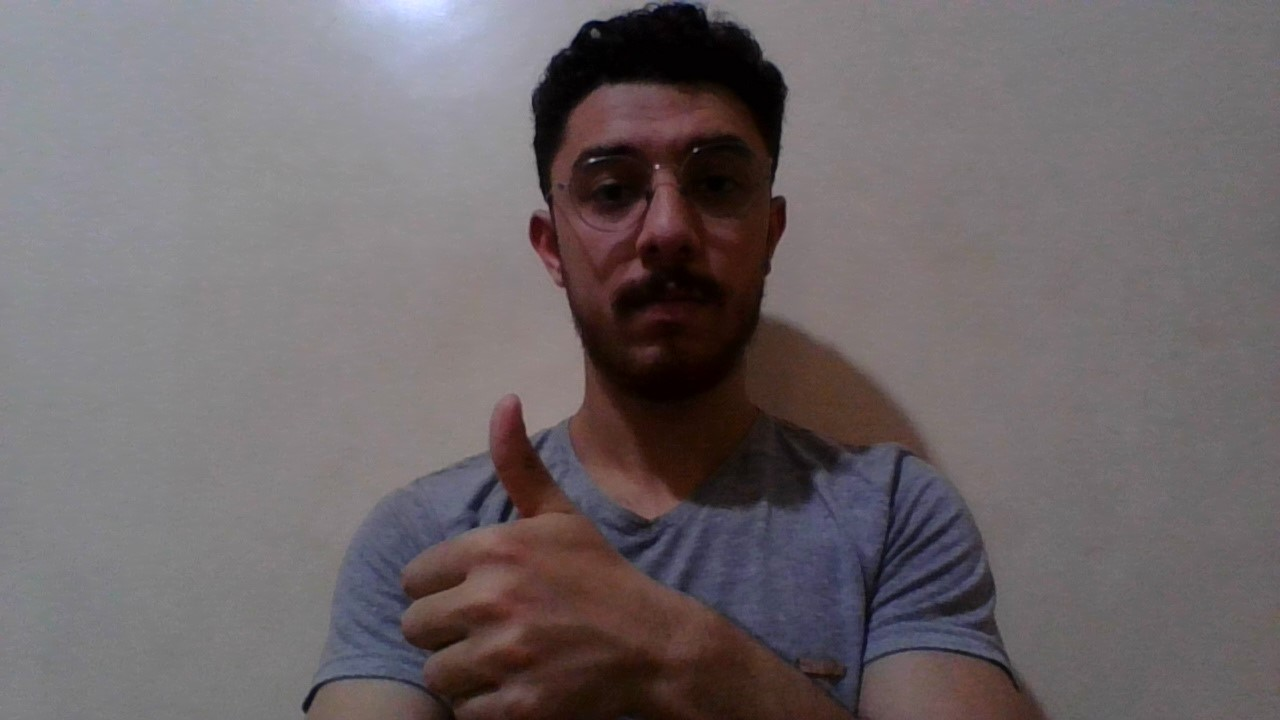Yes: (386, 388, 750, 720)
